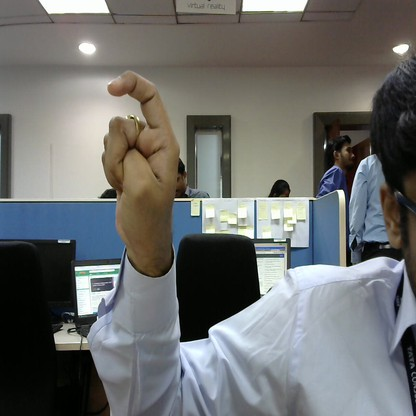x: (100, 70, 183, 259)
